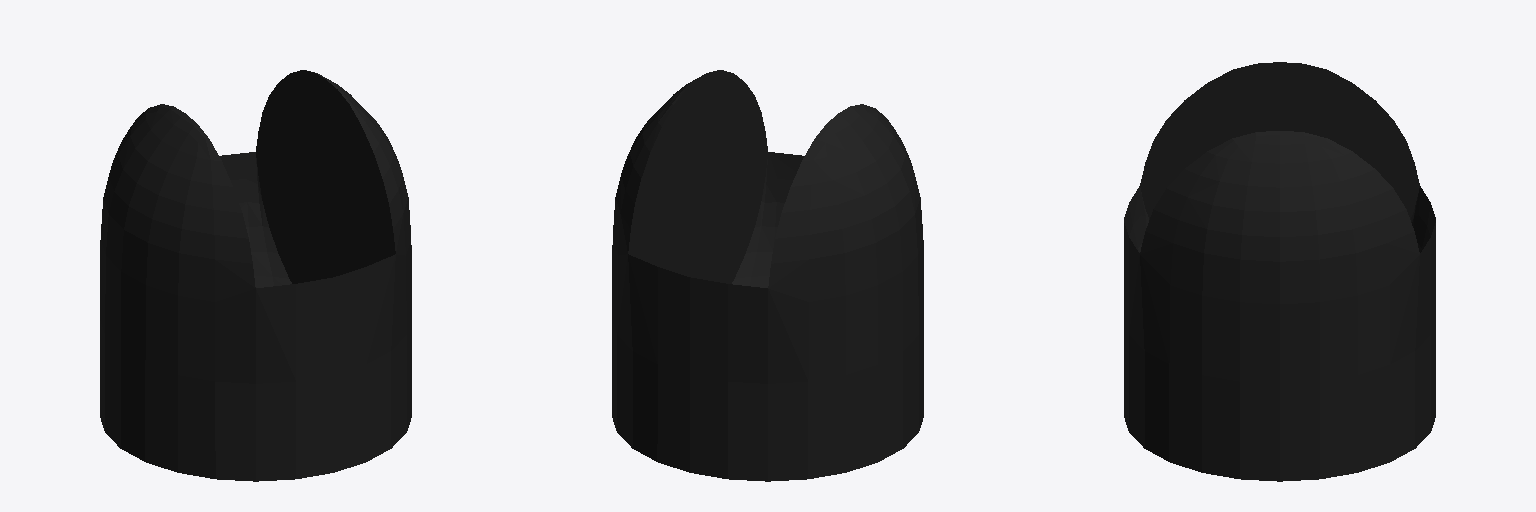
File: Tr-Grue-LeverBase-XYZ_02.obj
3 renders of one model, left to right at view 1: azimuth 30°, elevation 25°; view 2: azimuth 150°, elevation 25°; view 3: azimuth 270°, elevation 25°, orthographic.
Visible parts, largest first — view 1: Tr-Grue-LeverBase-XYZ_02_BaseLevier.009; view 2: Tr-Grue-LeverBase-XYZ_02_BaseLevier.009; view 3: Tr-Grue-LeverBase-XYZ_02_BaseLevier.009.
Part boxes in pixels (x1,y1,x2,y2): Tr-Grue-LeverBase-XYZ_02_BaseLevier.009: (100,70,411,481); Tr-Grue-LeverBase-XYZ_02_BaseLevier.009: (612,70,923,481); Tr-Grue-LeverBase-XYZ_02_BaseLevier.009: (1124,62,1435,481).
Bounding box in the file's own units: 0.0725 × 0.0816 × 0.0725.